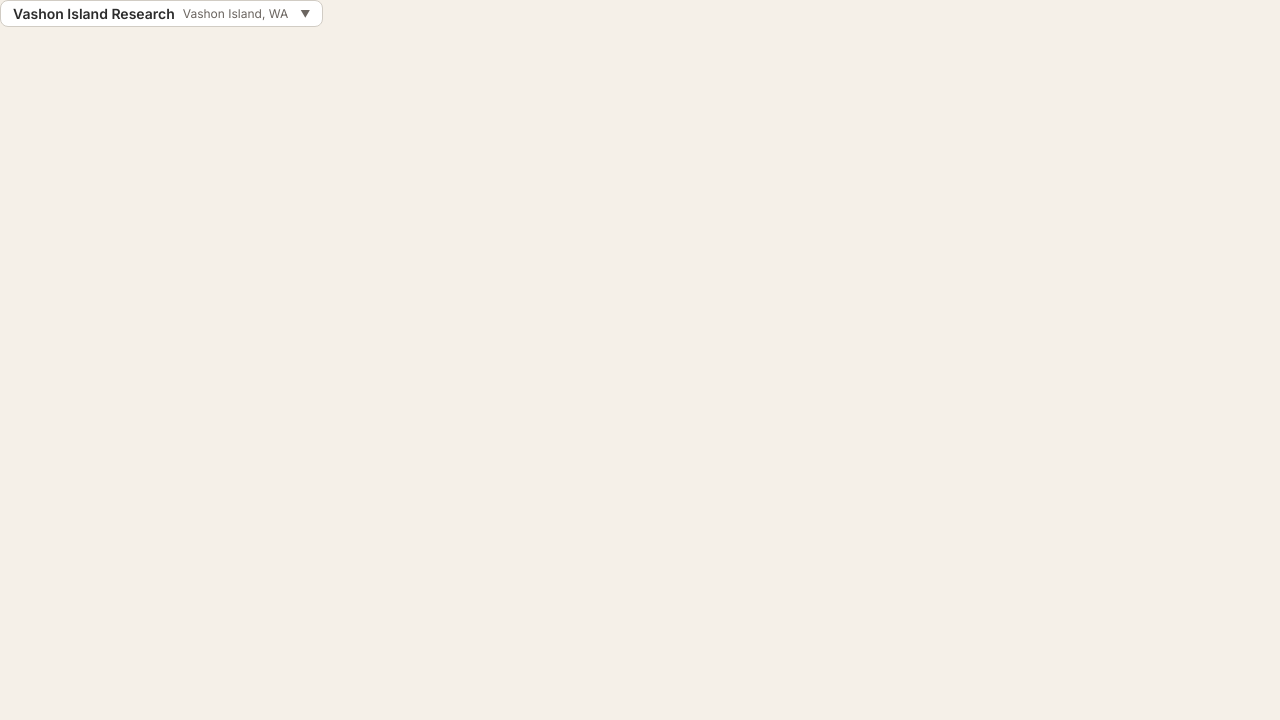
Scenario: ProjectSelector › shows import form when Import is clicked
Click the button: (162, 14) 0,0 -> 323,27
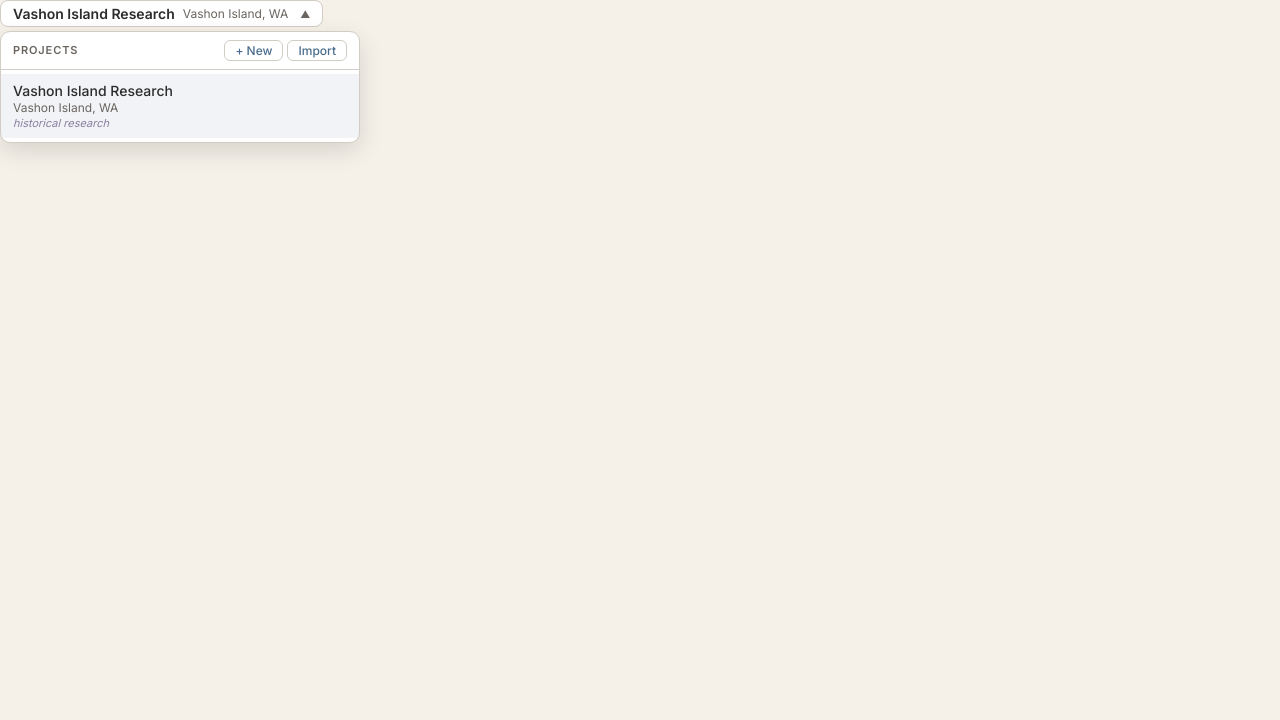
Click the button "Import": (317, 50) 288,40 -> 347,61
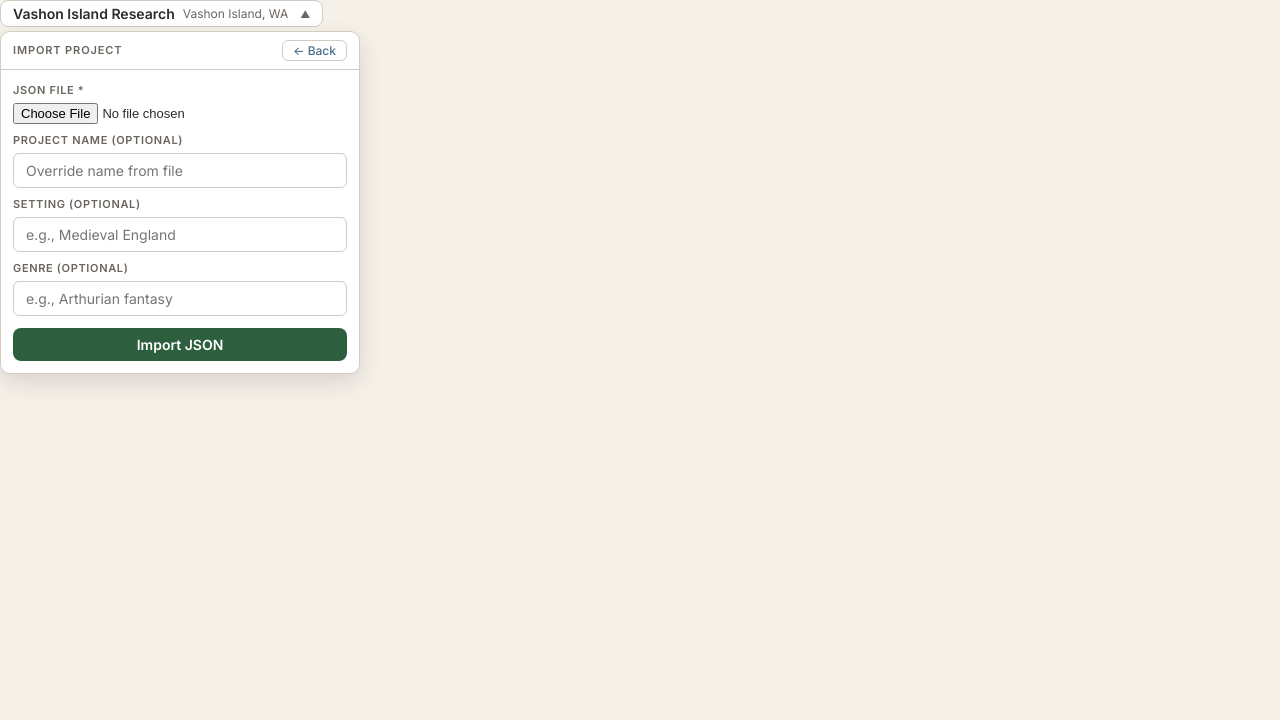
Now the text "Import Project" is shown, box 13,42 -> 122,60
Now the text "JSON File *" is shown, box 13,83 -> 84,97
